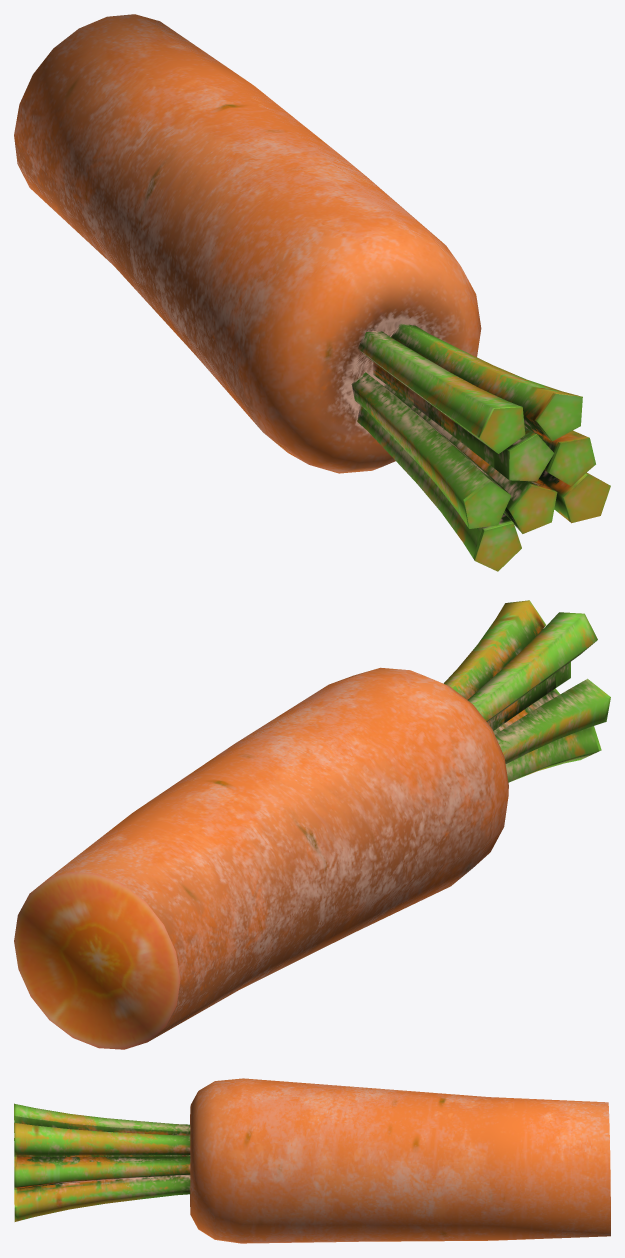
Rendered from Carrot1.fbx.
3 renders of one model, top to bottom at view 1: azimuth 30°, elevation 25°; view 2: azimuth 150°, elevation 25°; view 3: azimuth 270°, elevation 25°, orthographic. The views are drawn at different scales.
Visible parts, largest first — view 1: Carrot_Low; view 2: Carrot_Low; view 3: Carrot_Low.
Boxes of the visible parts, bbox=[...] form: Carrot_Low: bbox=[14, 14, 610, 571]; Carrot_Low: bbox=[14, 600, 610, 1049]; Carrot_Low: bbox=[14, 1078, 610, 1243].
Bounding box in the file's own units: 198 × 184 × 656.
Materials: 1 (1 with a texture image).
